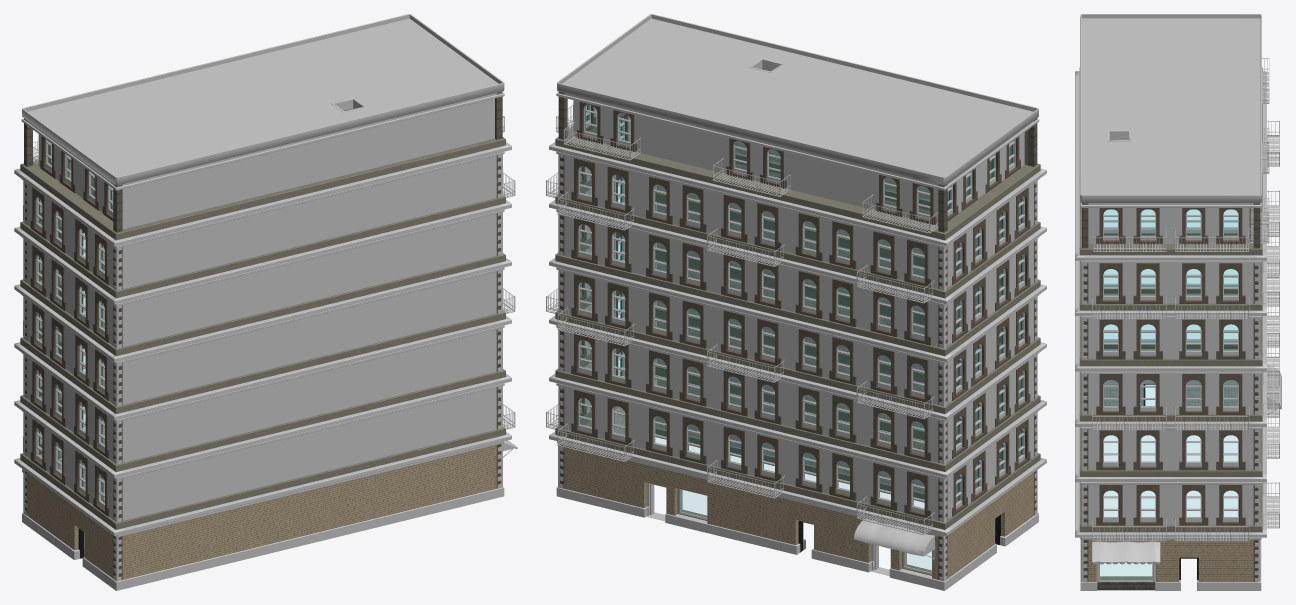
File: SM_Building17_V2.fbx
The picture shows the model from 3 angles, left to right: view 1: azimuth 30°, elevation 25°; view 2: azimuth 150°, elevation 25°; view 3: azimuth 270°, elevation 25°; orthographic projection. The views are drawn at different scales.
Parts seen in each view (by area): view 1: SM_Building17_V2; view 2: SM_Building17_V2; view 3: SM_Building17_V2.
Boxes of the visible parts, box(x1,y1,x2,y2) form: SM_Building17_V2: box(14, 14, 517, 590); SM_Building17_V2: box(546, 14, 1046, 590); SM_Building17_V2: box(1075, 14, 1281, 590).
Bounding box in the file's own units: 3019 × 2891 × 1369.
